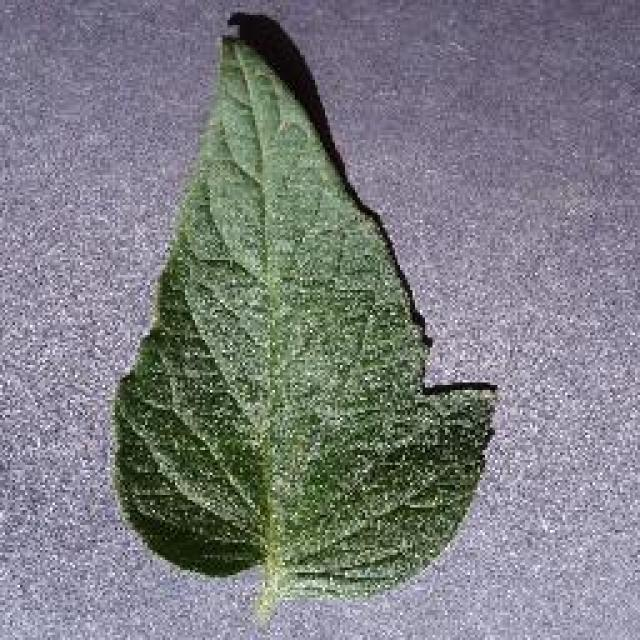Tomato healthy leaf: (111, 38, 494, 602)
